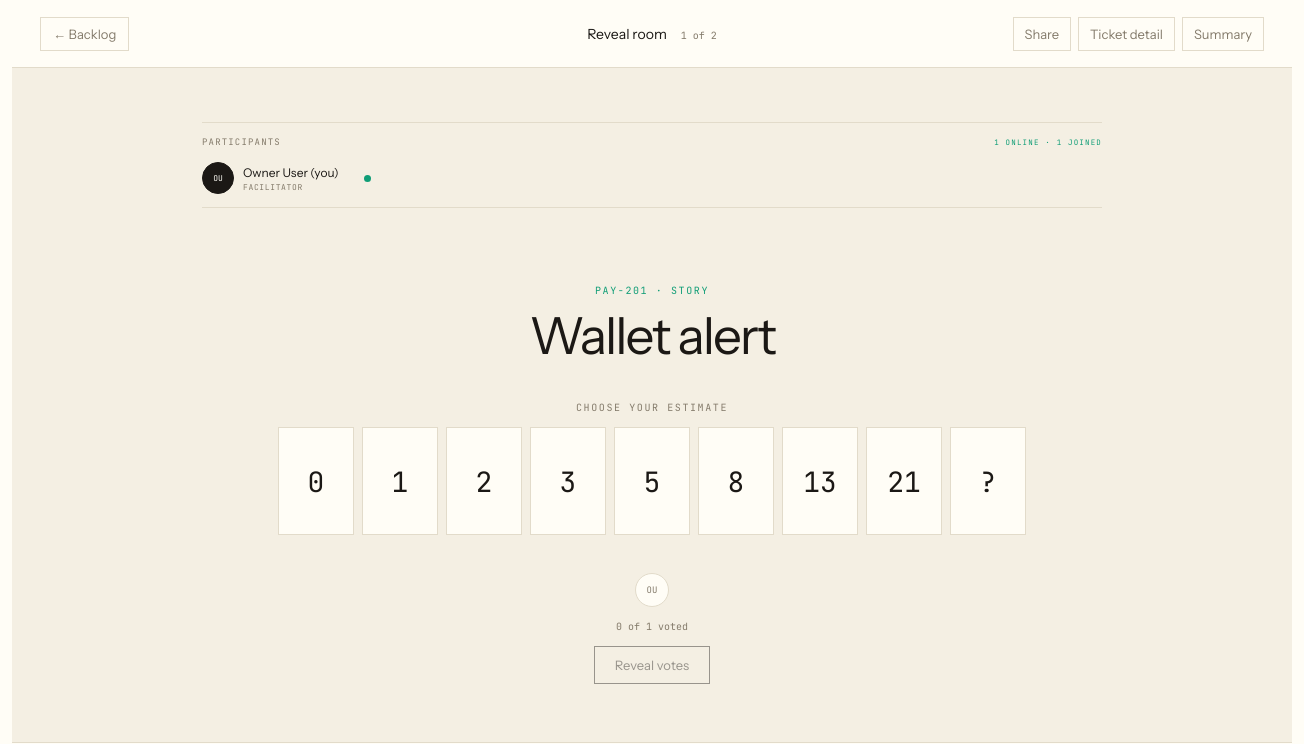
Test: vote reveal and final estimate › renders automatically revealed results after the final vote response
This screenshot has width=1304, height=744.
Check: the heading "Wallet alert" is shown, box [529, 308, 775, 363]
Click the button "5".
click(652, 481)  # box [614, 427, 690, 535]
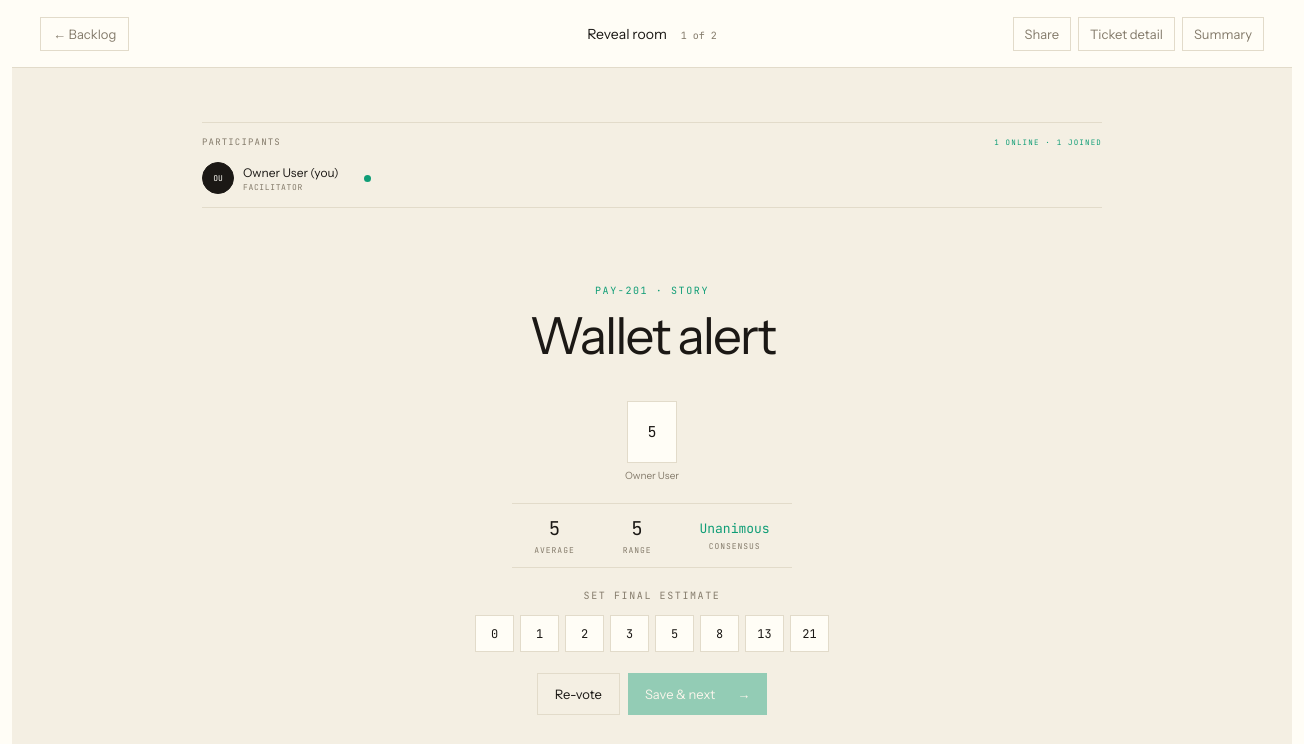
Check: the text "Unanimous" is shown, box [700, 516, 770, 537]
